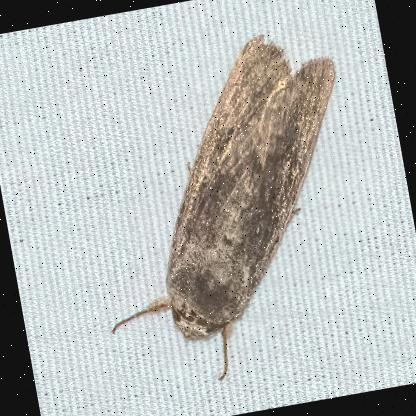Fall Armyworm Moth: (61, 17, 388, 402)
